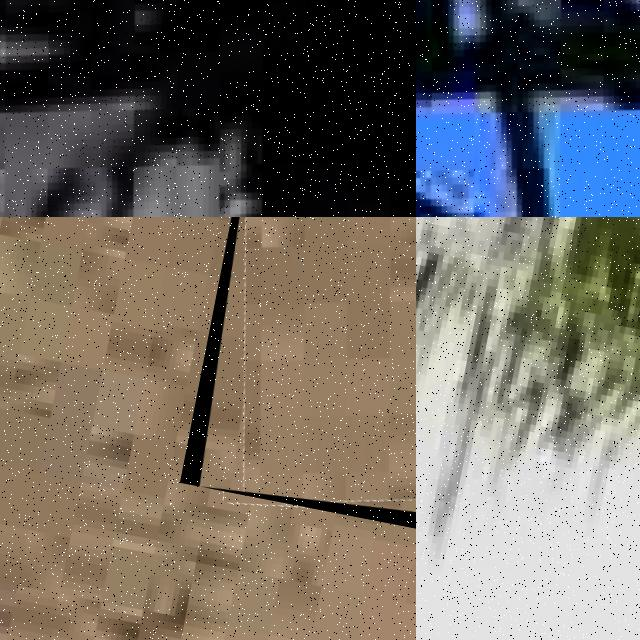drone: (0, 0, 416, 217), (180, 217, 416, 550), (416, 0, 640, 217)
